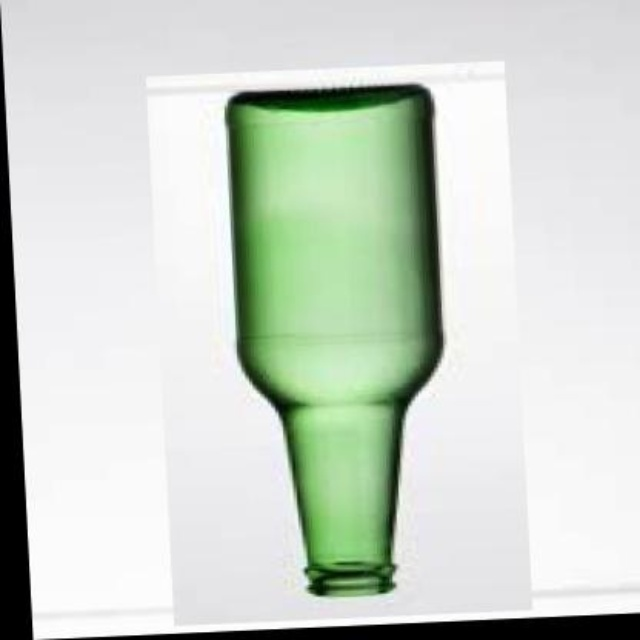trash: (226, 85, 442, 595)
